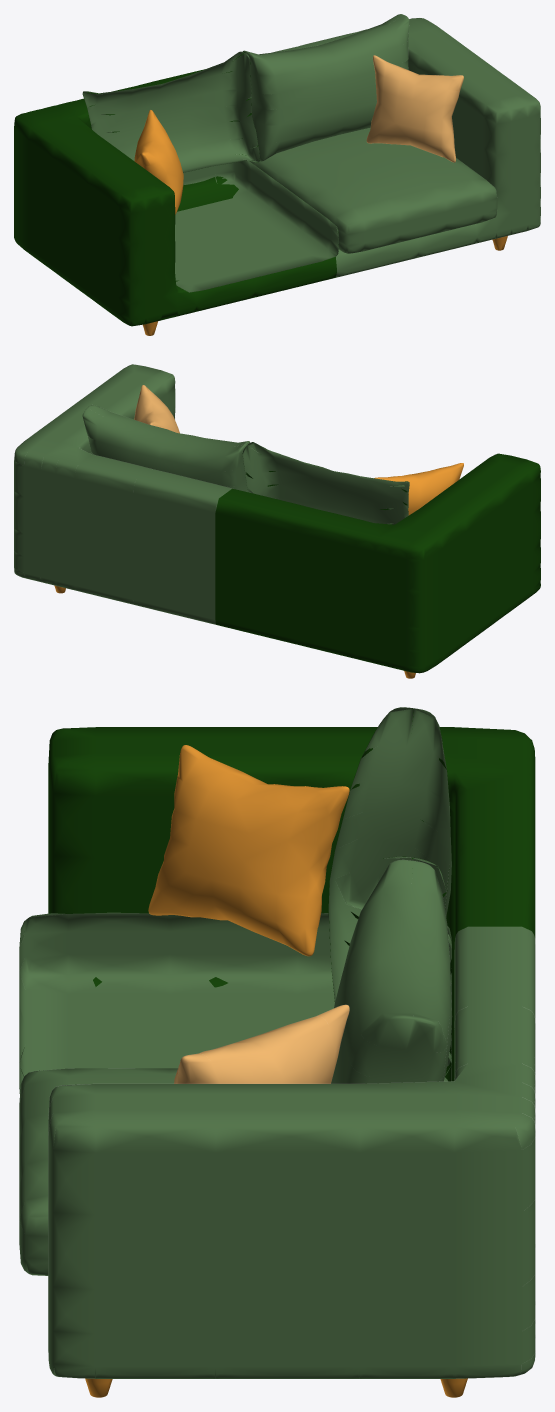
File: Koltuk2022.glb
3 renders of one model, top to bottom at view 1: azimuth 30°, elevation 25°; view 2: azimuth 150°, elevation 25°; view 3: azimuth 270°, elevation 25°, orthographic. The views are drawn at different scales.
Visible parts, largest first — view 1: Material_1, Material_3, Material_3_clonedChild, Material_1_clonedChild, Material_2, Material_2_clonedChild, Material_5, Material_5_clonedChild, Material_4, Material_4_clonedChild, Material_7, Material_7_clonedChild (+1 smaller); view 2: Material_1, Material_1_clonedChild, Material_4, Material_5, Material_4_clonedChild, Material_5_clonedChild, Material_6, Material_7, Material_7_clonedChild; view 3: Material_1, Material_1_clonedChild, Material_2, Material_2_clonedChild, Material_6, Material_5, Material_5_clonedChild, Material_4, Material_4_clonedChild, Material_7, Material_7_clonedChild, Material_3 (+1 smaller).
Part boxes in pixels (x1=…): Material_1: x1=14, y1=18, x2=540, y2=326; Material_3: x1=250, y1=128, x2=497, y2=253; Material_3_clonedChild: x1=250, y1=128, x2=496, y2=253; Material_1_clonedChild: x1=276, y1=18, x2=540, y2=277; Material_2: x1=175, y1=160, x2=338, y2=292; Material_2_clonedChild: x1=175, y1=161, x2=338, y2=292; Material_5: x1=243, y1=14, x2=409, y2=161; Material_5_clonedChild: x1=243, y1=14, x2=408, y2=161; Material_4: x1=82, y1=51, x2=259, y2=172; Material_4_clonedChild: x1=83, y1=52, x2=259, y2=172; Material_7: x1=366, y1=55, x2=463, y2=162; Material_7_clonedChild: x1=367, y1=55, x2=463, y2=162; Material_1: x1=14, y1=364, x2=540, y2=673; Material_1_clonedChild: x1=14, y1=364, x2=231, y2=624; Material_4: x1=242, y1=442, x2=409, y2=524; Material_5: x1=82, y1=405, x2=250, y2=492; Material_4_clonedChild: x1=243, y1=442, x2=409, y2=524; Material_5_clonedChild: x1=83, y1=405, x2=249, y2=491; Material_6: x1=374, y1=463, x2=463, y2=515; Material_7: x1=134, y1=385, x2=179, y2=433; Material_7_clonedChild: x1=134, y1=385, x2=179, y2=432; Material_1: x1=48, y1=727, x2=535, y2=1378; Material_1_clonedChild: x1=48, y1=927, x2=535, y2=1378; Material_2: x1=19, y1=912, x2=452, y2=1093; Material_2_clonedChild: x1=19, y1=913, x2=451, y2=1088; Material_6: x1=148, y1=745, x2=349, y2=956; Material_5: x1=331, y1=860, x2=451, y2=1083; Material_5_clonedChild: x1=331, y1=860, x2=451, y2=1083; Material_4: x1=328, y1=707, x2=451, y2=1001; Material_4_clonedChild: x1=329, y1=707, x2=451, y2=999; Material_7: x1=174, y1=1004, x2=349, y2=1083; Material_7_clonedChild: x1=174, y1=1005, x2=349, y2=1083; Material_3: x1=19, y1=1068, x2=447, y2=1275.
Bounding box in the file's own units: 2361 × 992 × 1273.
